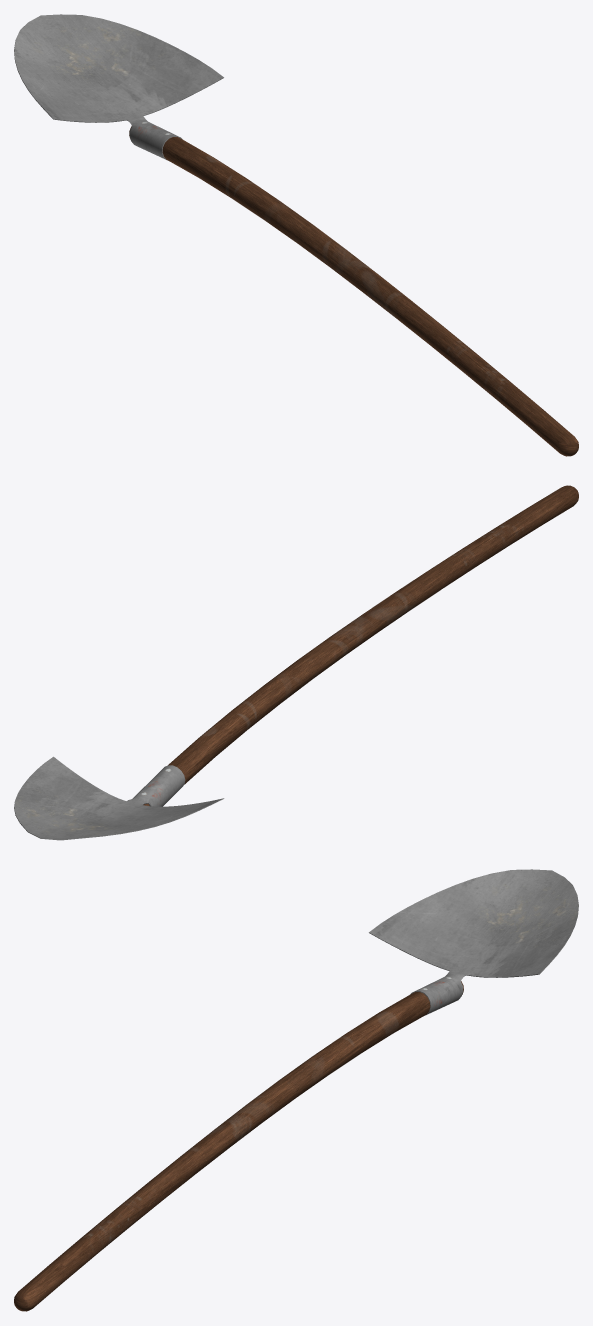
Rendered from shovel.glb.
The picture shows the model from 3 angles, top to bottom: view 1: azimuth 30°, elevation 25°; view 2: azimuth 150°, elevation 25°; view 3: azimuth 330°, elevation 25°; orthographic projection.
Visible parts, largest first — view 1: Shovel; view 2: Shovel; view 3: Shovel.
Part boxes in pixels (box(x1,y1,x2,y2)): Shovel: box(14, 14, 578, 456); Shovel: box(14, 485, 578, 840); Shovel: box(14, 869, 578, 1311).
Bounding box in the file's own units: 0.3642 × 0.116 × 1.97.
Materials: 2 (2 with a texture image).
